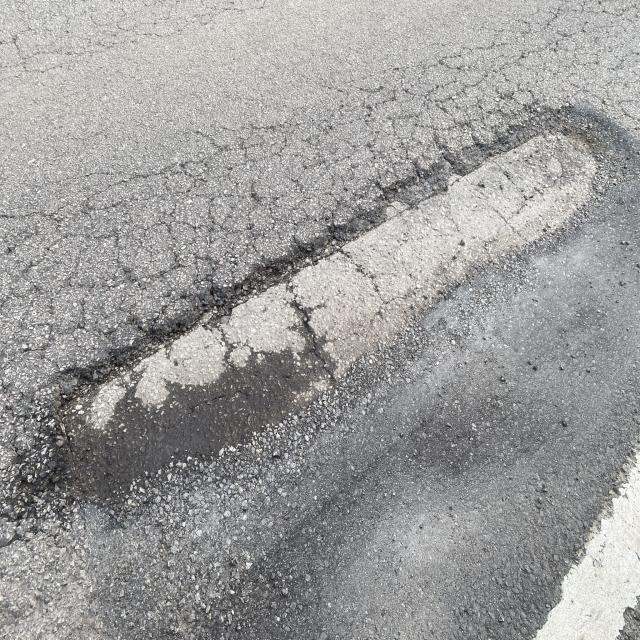Pothole: (25, 291, 595, 475)
